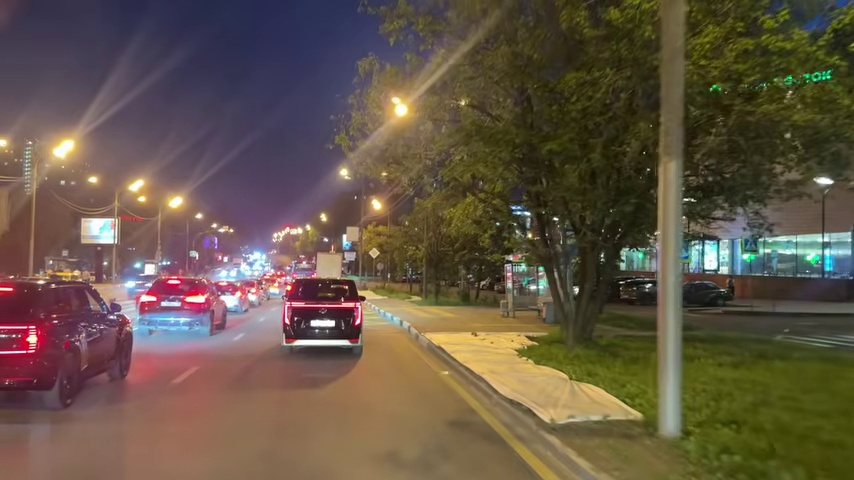acesa: (385, 95, 415, 126), (49, 136, 78, 164), (125, 176, 148, 200), (164, 193, 186, 212), (367, 196, 387, 215), (336, 165, 353, 182), (85, 173, 102, 188), (318, 210, 331, 225), (0, 134, 9, 153)
